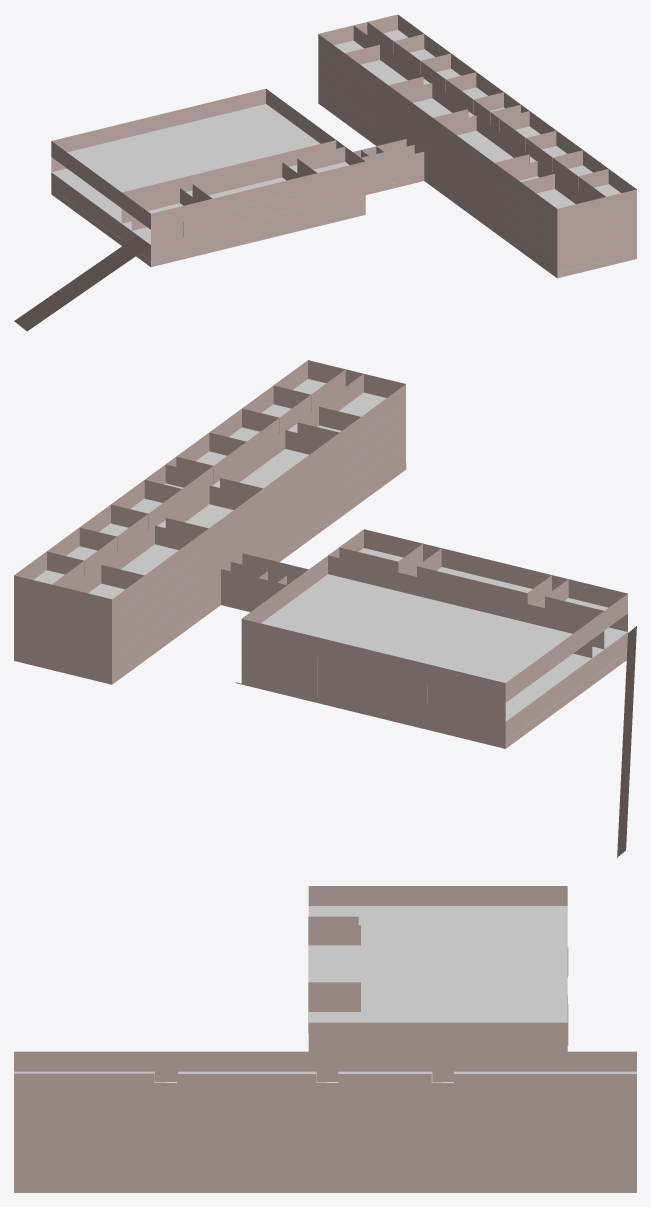
File: КопияШколы3.fbx
The picture shows the model from 3 angles, top to bottom: view 1: azimuth 30°, elevation 25°; view 2: azimuth 150°, elevation 25°; view 3: azimuth 270°, elevation 25°; orthographic projection. The views are drawn at different scales.
Visible parts, largest first — view 1: Baseboard.059, Room.089, Room.118, Room.066, Room.007, Room.160, Room.060, Room.018, Room.002, Room.135, Room.168, Baseboard.056 (+28 smaller); view 2: Baseboard.059, Room.089, Room.118, Room.066, Room.007, Room.003, Room.059, Room.168, Room.018, Room.135, Room.165, Room.160 (+24 smaller); view 3: Baseboard.059, Room.091, Room.119, Room.118, Room.019, Room.065, Room.135, Baseboard.057, Room.166, Room.167, Room.007, Baseboard.056 (+13 smaller).
Part boxes in pixels (box(x1,y1,x2,y2)): Baseboard.059: box(67, 104, 278, 196); Room.089: box(318, 50, 557, 240); Room.118: box(318, 34, 557, 223); Room.066: box(318, 66, 557, 255); Room.007: box(51, 98, 636, 278); Room.160: box(151, 161, 365, 229); Room.060: box(151, 177, 365, 245); Room.018: box(318, 82, 557, 272); Room.002: box(151, 193, 365, 260); Room.135: box(367, 22, 605, 200); Room.168: box(52, 88, 265, 152); Baseboard.056: box(220, 104, 365, 183); Baseboard.059: box(242, 588, 542, 687); Room.089: box(112, 404, 405, 638); Room.118: box(112, 384, 405, 618); Room.066: box(112, 424, 405, 657); Room.007: box(14, 463, 626, 748); Room.003: box(241, 658, 505, 742); Room.059: box(241, 638, 505, 722); Room.168: box(241, 619, 505, 701); Room.018: box(112, 443, 405, 677); Room.135: box(52, 369, 345, 588); Room.165: box(328, 555, 591, 633); Room.160: box(364, 529, 627, 607); Baseboard.059: box(349, 906, 567, 1043); Room.091: box(14, 1123, 636, 1144); Room.119: box(14, 1102, 636, 1123); Room.118: box(14, 1051, 636, 1072); Room.019: box(14, 1165, 636, 1185); Room.065: box(14, 1144, 636, 1164); Room.135: box(14, 1083, 636, 1102); Baseboard.057: box(308, 906, 567, 936); Room.166: box(308, 1022, 567, 1043); Room.167: box(308, 886, 567, 905); Room.007: box(14, 1186, 636, 1192); Baseboard.056: box(308, 1012, 563, 1043).
Size of what is drawn, in the model's own units: 86.23 by 31.47 by 81.01.
